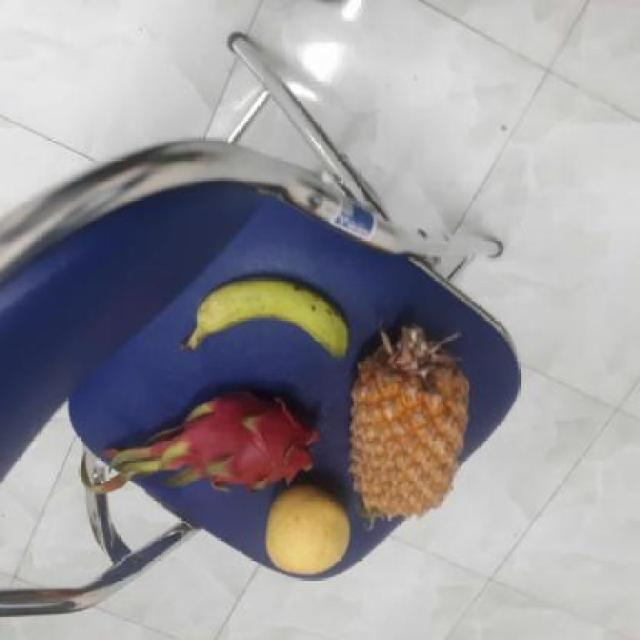banana: (185, 277, 344, 368)
dragon fruit: (150, 390, 312, 492)
pear: (261, 484, 353, 576)
sugar apple: (344, 325, 468, 520)
